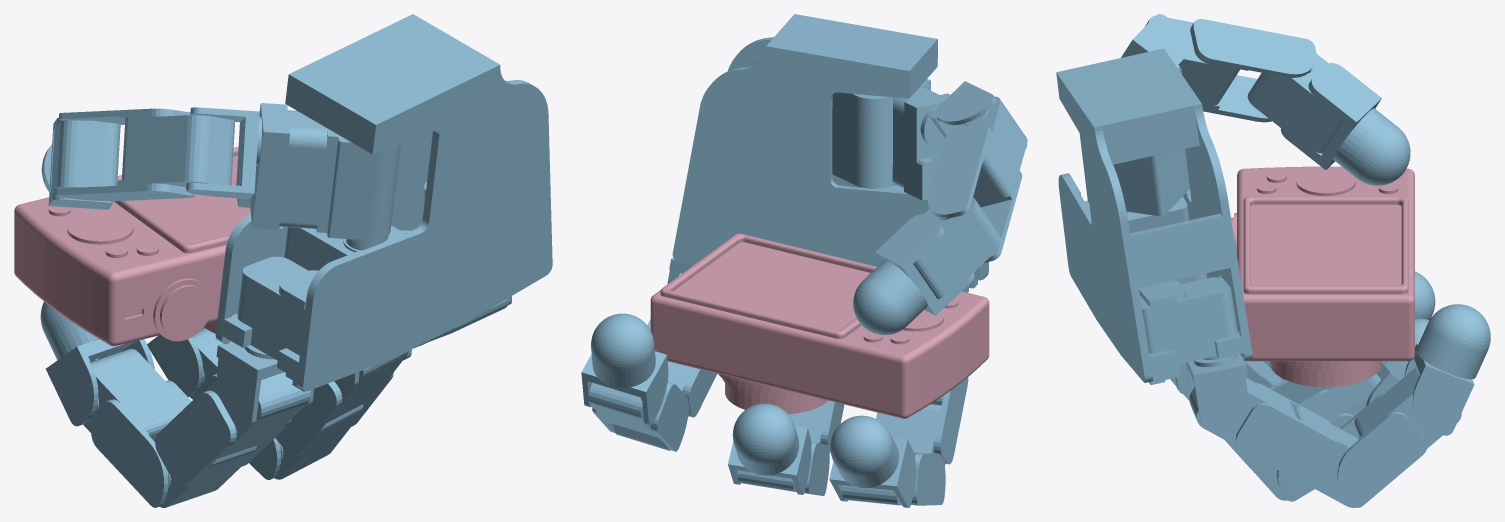
The picture shows the model from 3 angles, left to right: view 1: azimuth 30°, elevation 25°; view 2: azimuth 150°, elevation 25°; view 3: azimuth 270°, elevation 25°; orthographic projection. The views are drawn at different scales.
Parts seen in each view (by area): view 1: world; view 2: world; view 3: world.
Part boxes in pixels (box(x1,y1,x2,y2)): world: box(14, 14, 552, 507); world: box(581, 14, 1027, 507); world: box(1056, 14, 1490, 507).
Bounding box in the file's own units: 0.1589 × 0.1683 × 0.1582.
